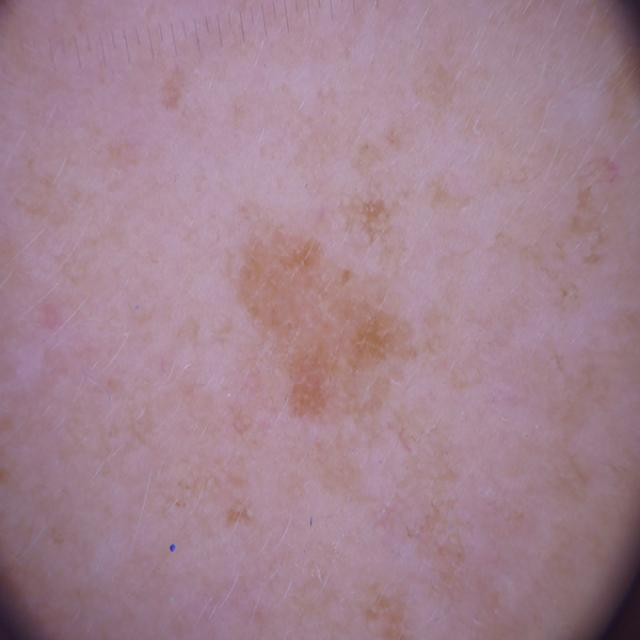Skin-Cancer Pigmented benign keratosis: (4, 9, 640, 640)
